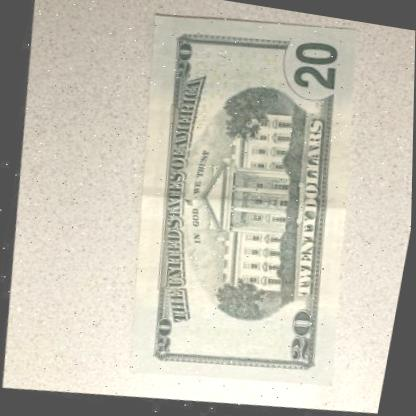twenty-back: (91, 0, 386, 402)
